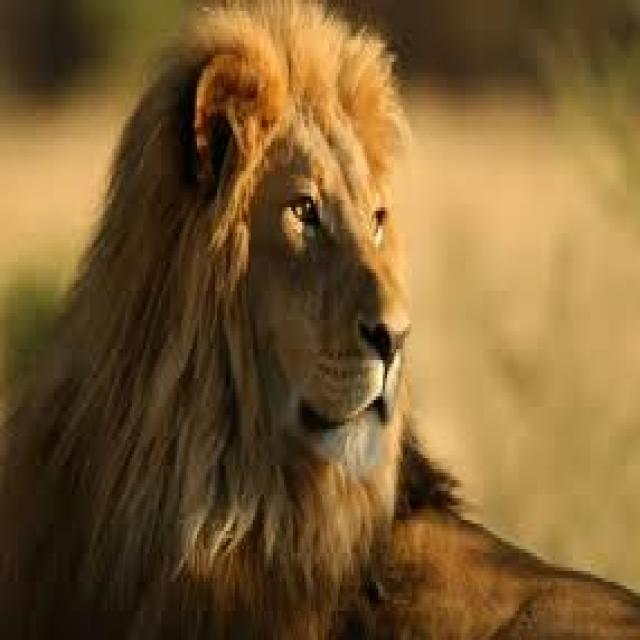Lion: (0, 24, 638, 633)
